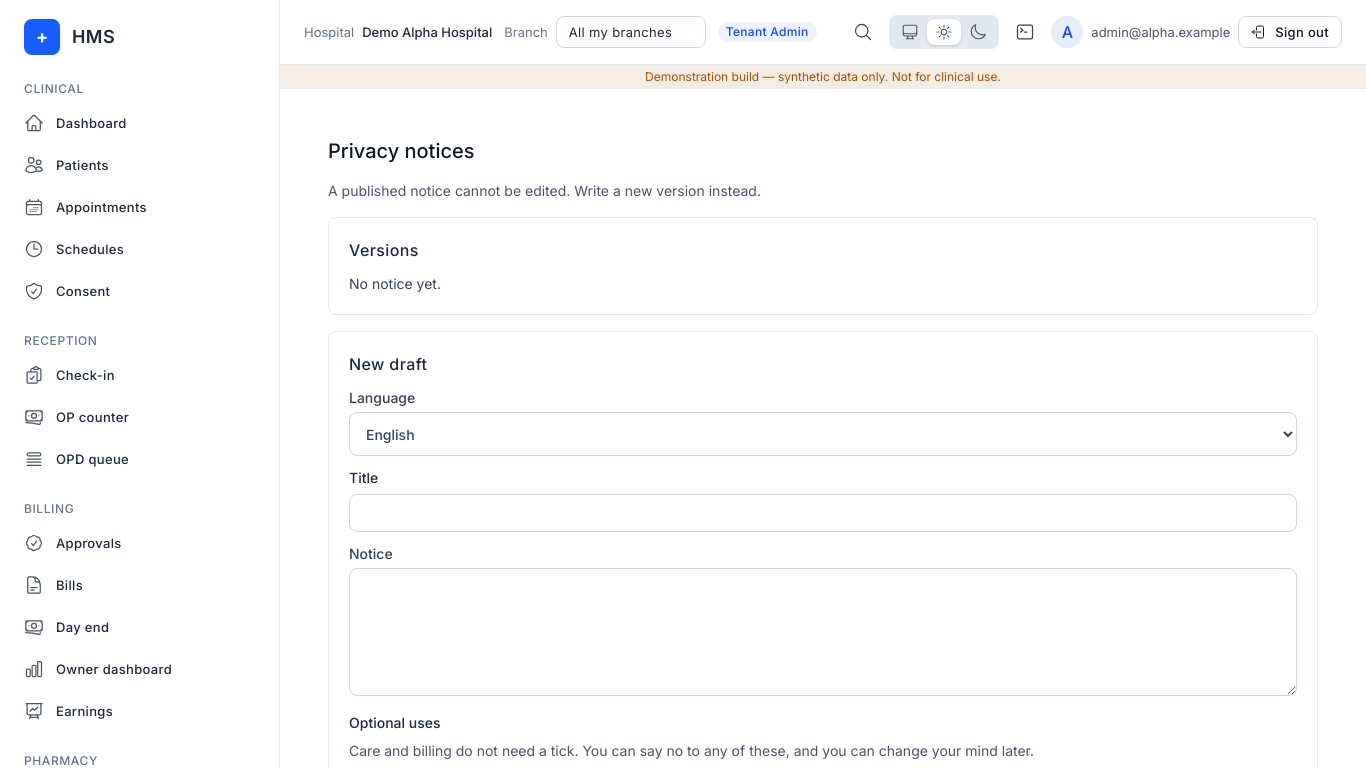
Test: Privacy pages › lets an admin save a notice draft without a version
The image size is (1366, 768).
Type "How this hospital uses health information" into the field labelled "Title" at (823, 513), box [349,494,1297,532]
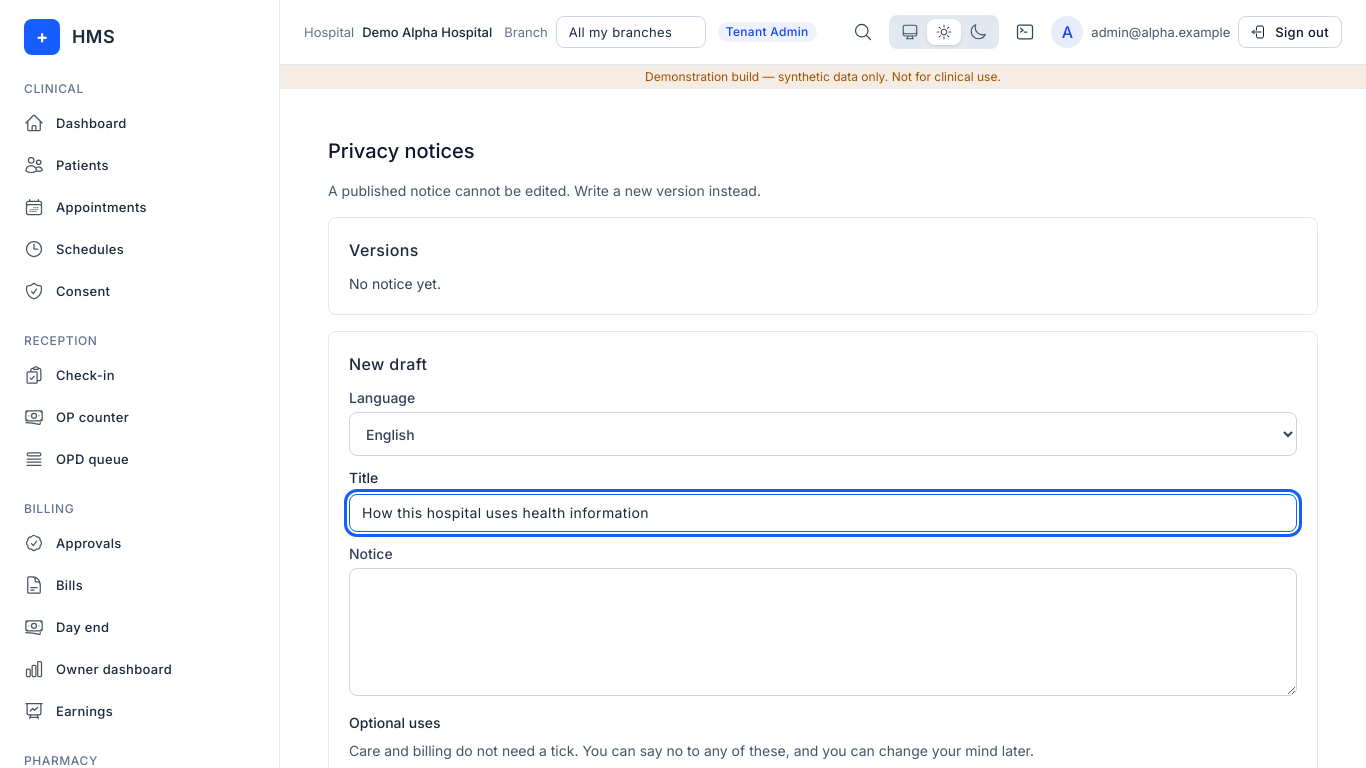
Type "Alpha Hospital tells you what it uses your health information for. Treatment and billing do not need a separate tick." into the text box labelled "Notice" at (823, 632), box [349,568,1297,696]
(page scrolled)
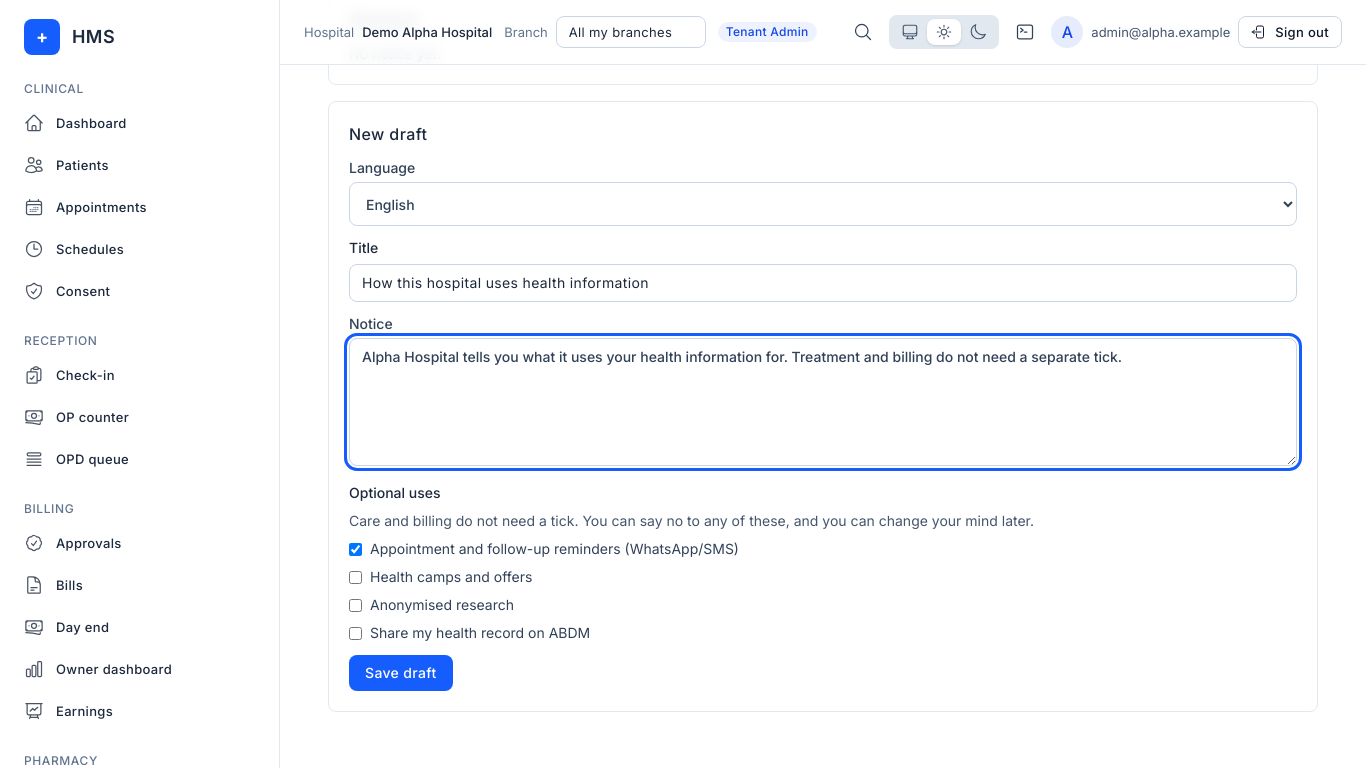
Click the button "Save draft" at (401, 673), box [349,655,452,691]
(page scrolled)
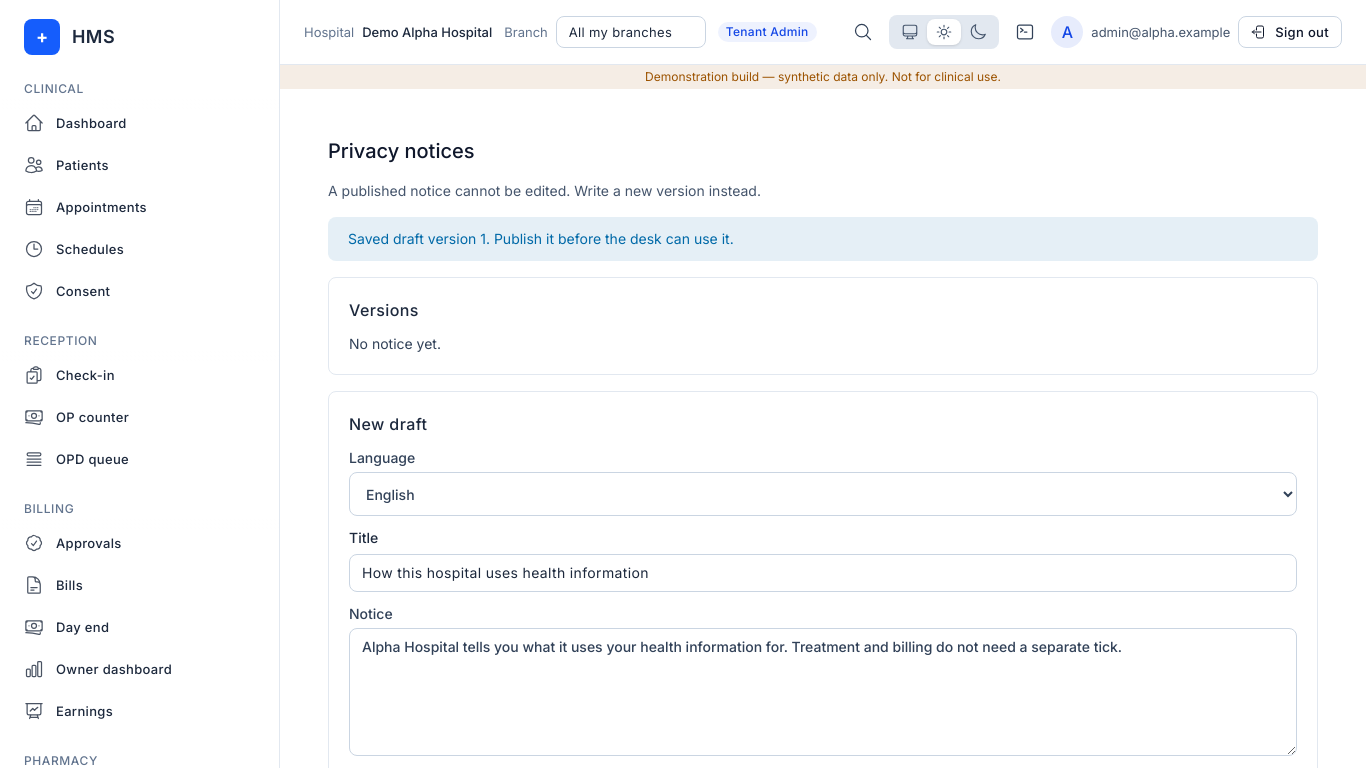
Expected: the text "Saved draft version 1. Publish it before the desk can use it." is shown, [328,217,1318,261]
